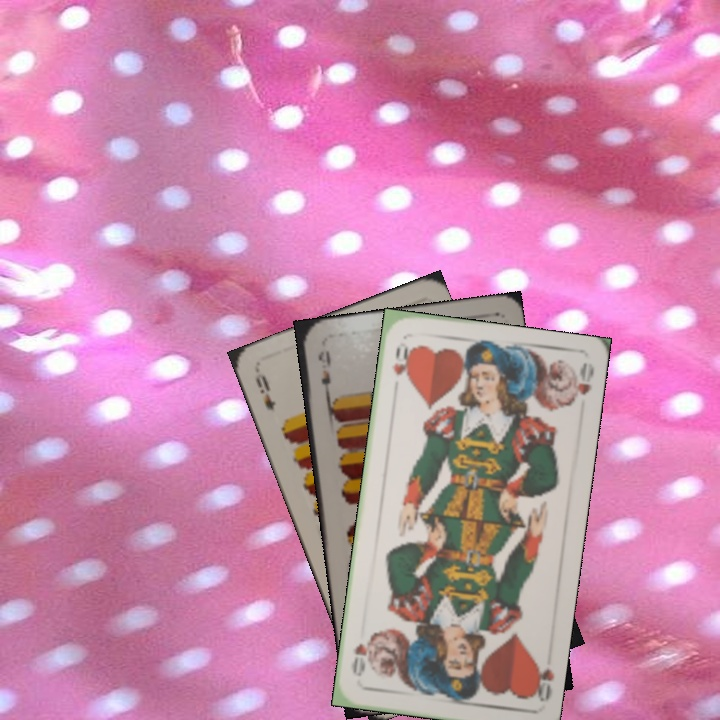E9: (251, 369, 278, 413), (313, 347, 334, 402)
HO: (527, 658, 557, 704), (389, 342, 414, 379)
